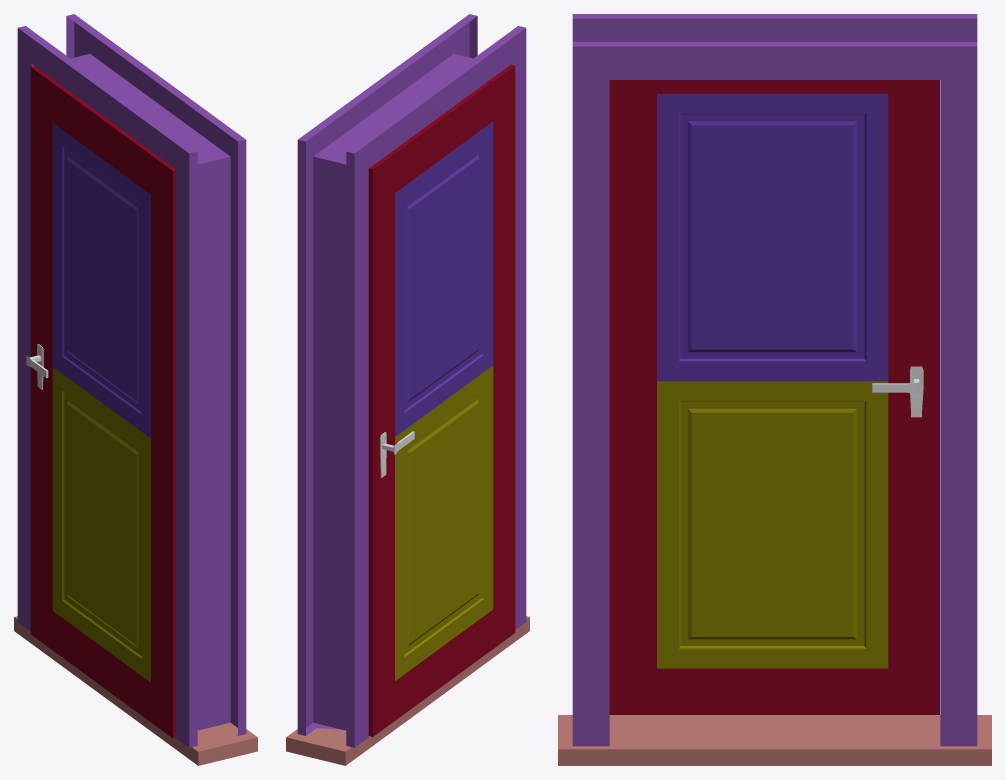
Rendered from Puerta.fbx.
3 renders of one model, left to right at view 1: azimuth 30°, elevation 25°; view 2: azimuth 150°, elevation 25°; view 3: azimuth 270°, elevation 25°, orthographic. The views are drawn at different scales.
Parts seen in each view (by area): view 1: puerta_in_1, puerta_1, perilla_1; view 2: puerta_in_1, puerta_1, perilla_1; view 3: puerta_in_1, puerta_1, perilla_1.
Part boxes in pixels (box(x1,y1,x2,y2)): puerta_in_1: box(30, 66, 175, 738); puerta_1: box(14, 14, 257, 765); perilla_1: box(26, 344, 48, 389); puerta_in_1: box(368, 65, 515, 736); puerta_1: box(286, 14, 529, 765); perilla_1: box(380, 431, 414, 477); puerta_in_1: box(609, 80, 939, 714); puerta_1: box(558, 14, 991, 765); perilla_1: box(872, 366, 923, 417).
Size of the model in its own units: 28.8 by 215 by 118.
